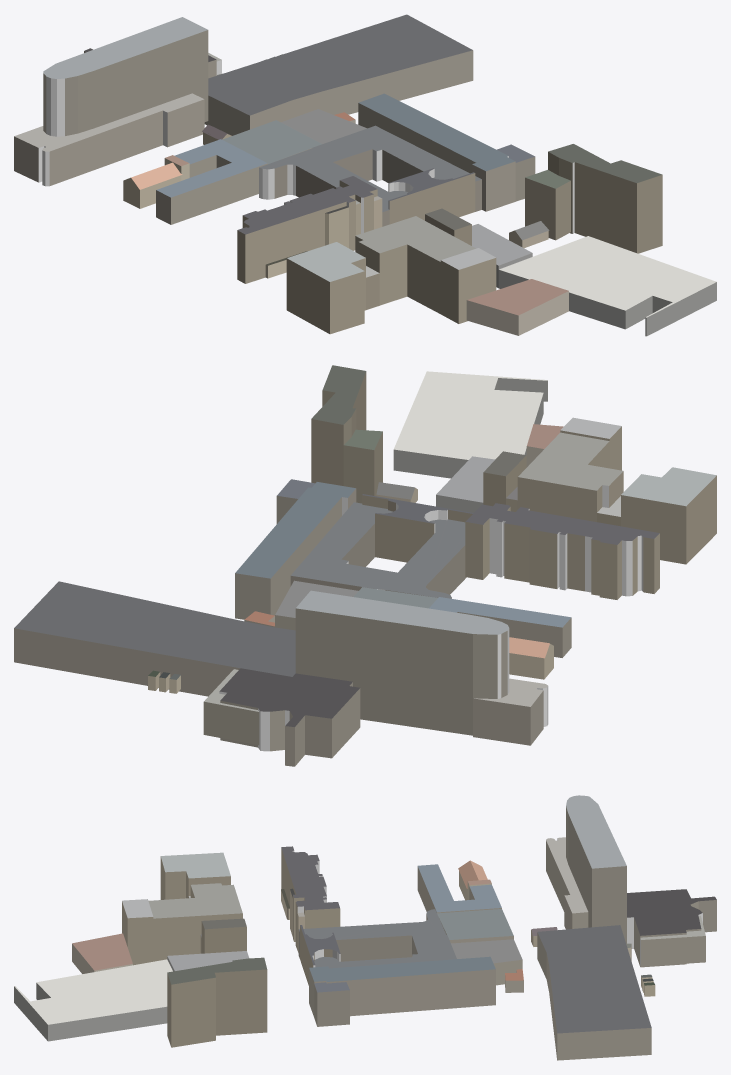
3 renders of one model, top to bottom at view 1: azimuth 30°, elevation 25°; view 2: azimuth 150°, elevation 25°; view 3: azimuth 270°, elevation 25°, orthographic. The views are drawn at different scales.
Visible parts, largest first — view 1: tuile; view 2: tuile; view 3: tuile.
Part boxes in pixels (bbox=[...]): tuile: bbox=[14, 14, 716, 336]; tuile: bbox=[14, 365, 716, 766]; tuile: bbox=[14, 795, 716, 1060].
Bounding box in the file's own units: 179 × 37.76 × 279.
